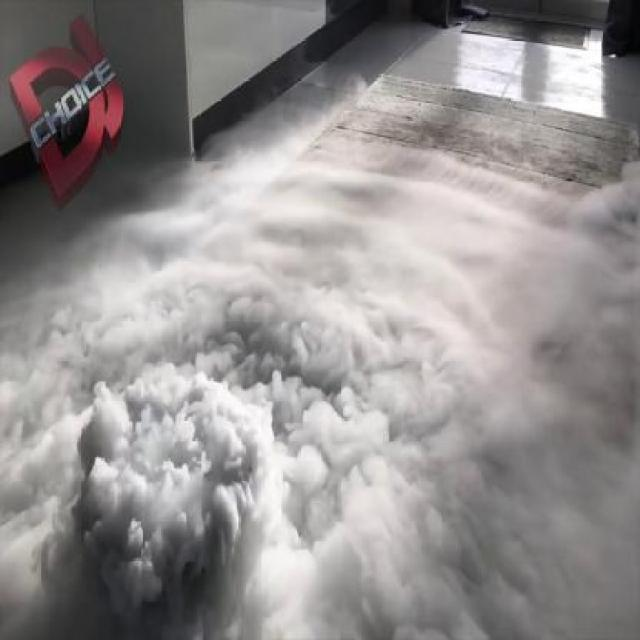smoke: (3, 164, 640, 640)
